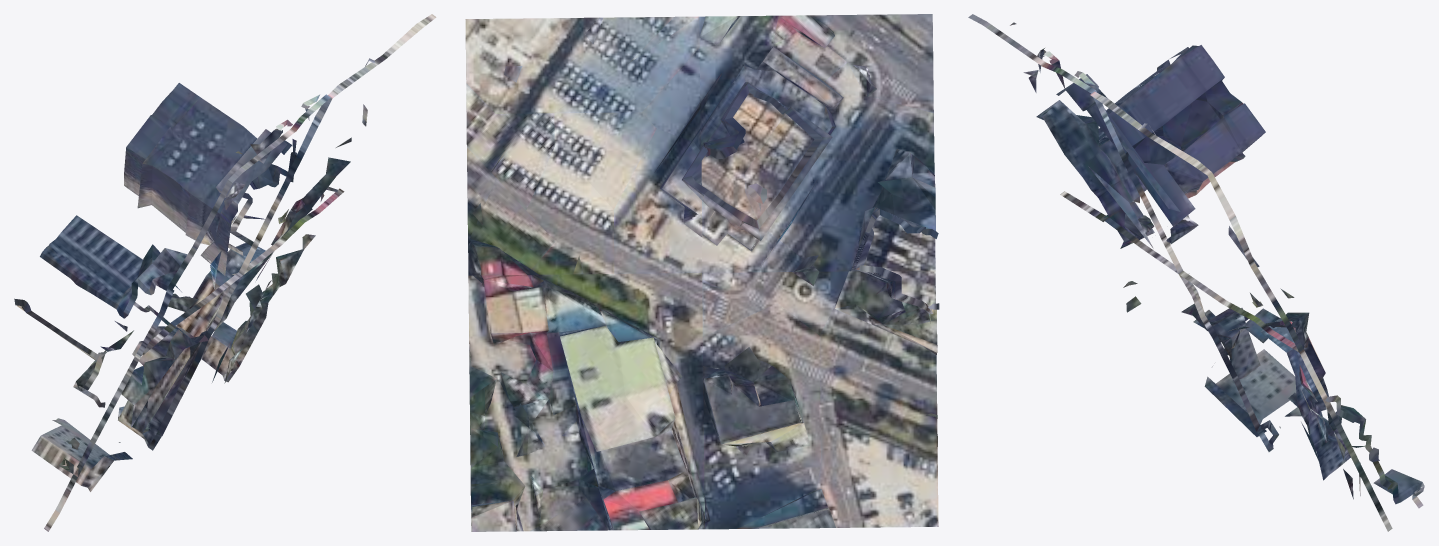
3 renders of one model, left to right at view 1: azimuth 30°, elevation 25°; view 2: azimuth 150°, elevation 25°; view 3: azimuth 270°, elevation 25°, orthographic. The views are drawn at different scales.
Size of the model in its own units: 159 by 140 by 141.
2 materials, 2 textured.
